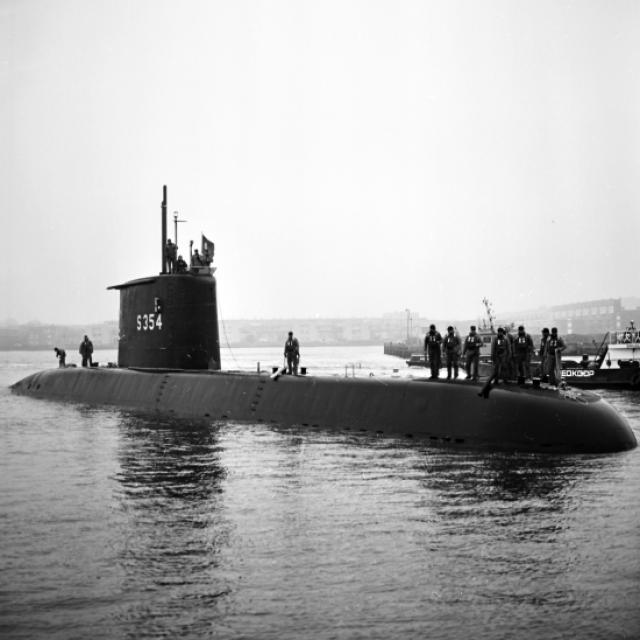submarine: (1, 184, 639, 454)
